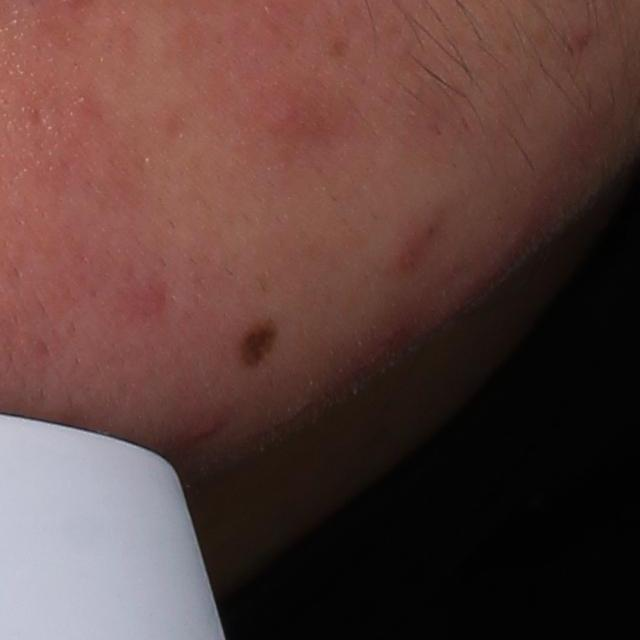nevus: (239, 312, 286, 366)
